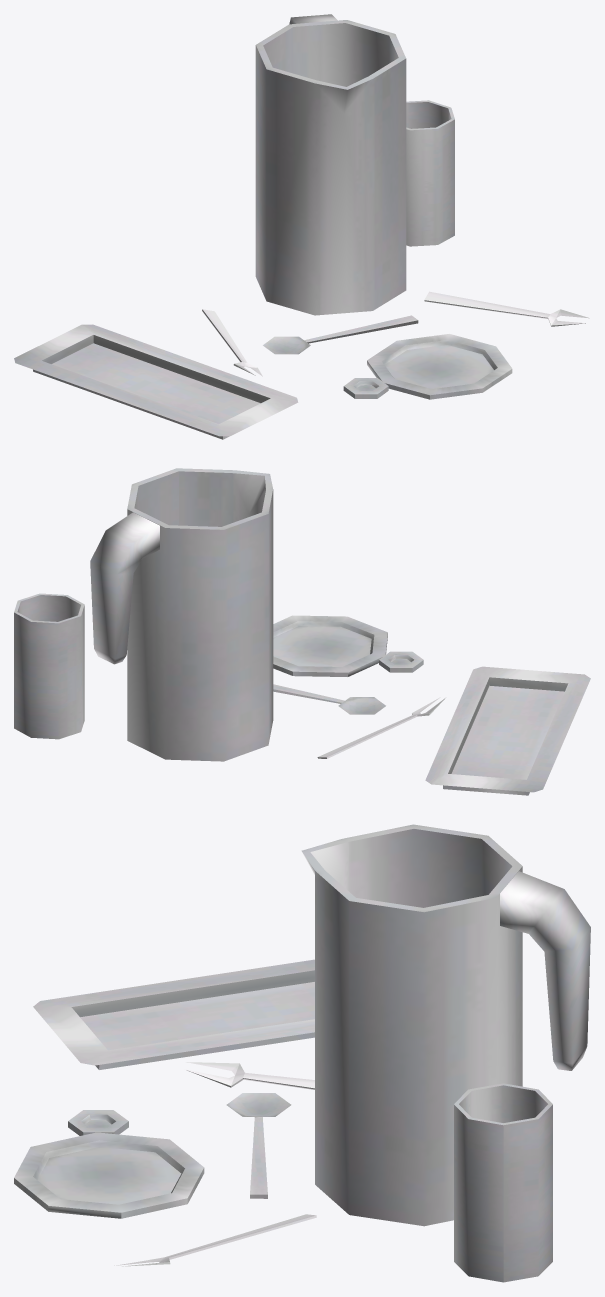
File: eqp_cook_kitchen_set_lg_s1_l0.fbx
The picture shows the model from 3 angles, top to bottom: view 1: azimuth 30°, elevation 25°; view 2: azimuth 150°, elevation 25°; view 3: azimuth 270°, elevation 25°; orthographic projection. The views are drawn at different scales.
Parts seen in each view (by area): view 1: mesh_node; view 2: mesh_node; view 3: mesh_node.
Part boxes in pixels (bbox=[...]): mesh_node: bbox=[14, 14, 589, 439]; mesh_node: bbox=[14, 468, 590, 795]; mesh_node: bbox=[14, 824, 590, 1282].
Size of the model in its own units: 0.6701 by 0.31 by 0.5143.
